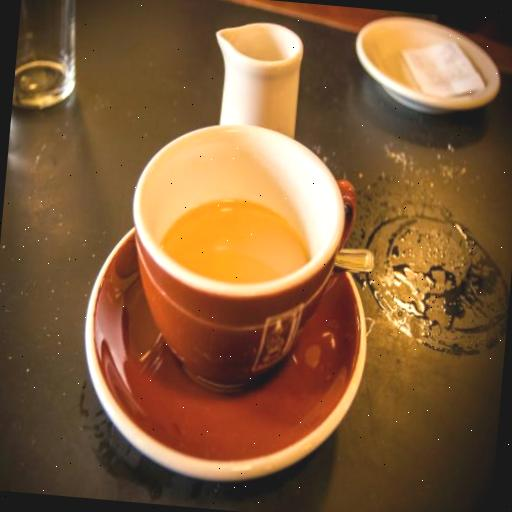cup: (117, 114, 364, 404)
